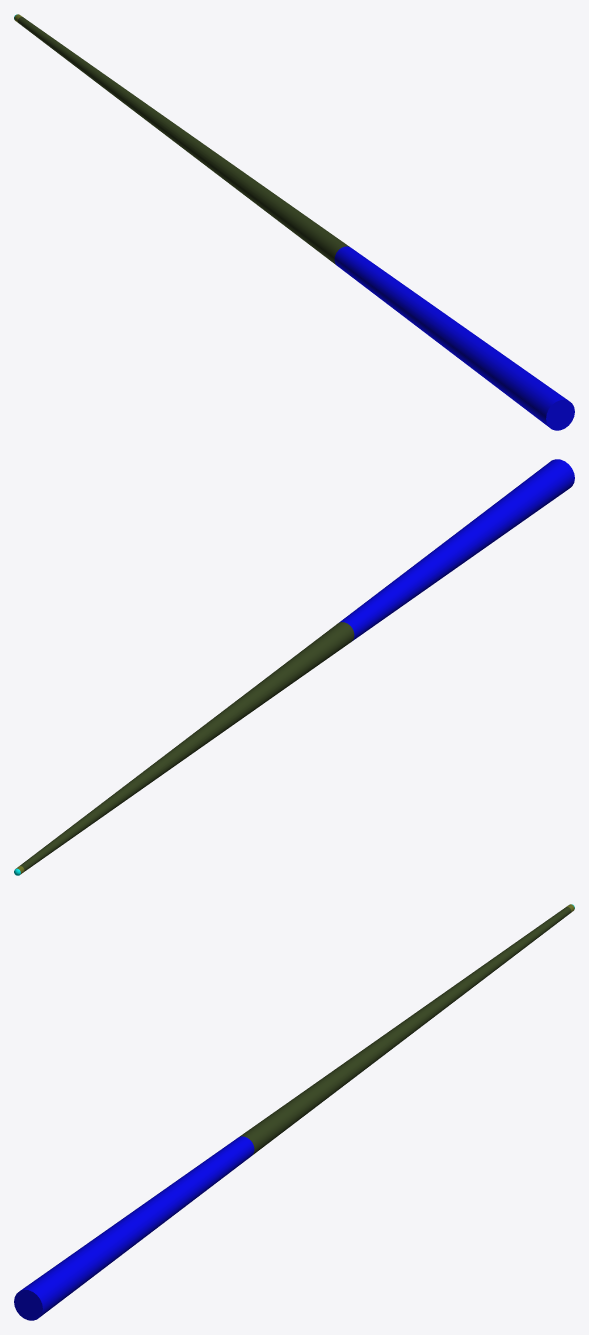
File: cue.fbx
The picture shows the model from 3 angles, top to bottom: view 1: azimuth 30°, elevation 25°; view 2: azimuth 150°, elevation 25°; view 3: azimuth 330°, elevation 25°; orthographic projection.
Parts seen in each view (by area): view 1: polySurface7, polySurface8; view 2: polySurface7, polySurface8; view 3: polySurface7, polySurface8.
Part boxes in pixels (x1,y1,x2,y2): polySurface7: [334, 246, 574, 430]; polySurface8: [18, 17, 349, 264]; polySurface7: [339, 459, 574, 640]; polySurface8: [20, 622, 354, 872]; polySurface7: [14, 1136, 254, 1320]; polySurface8: [239, 907, 571, 1154].
Bounding box in the file's own units: 0.1727 × 0.1727 × 5.62.
